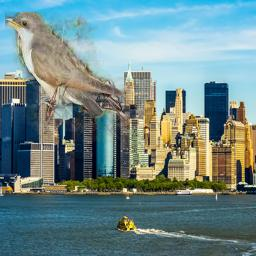Cuckoo: (5, 12, 130, 142)
